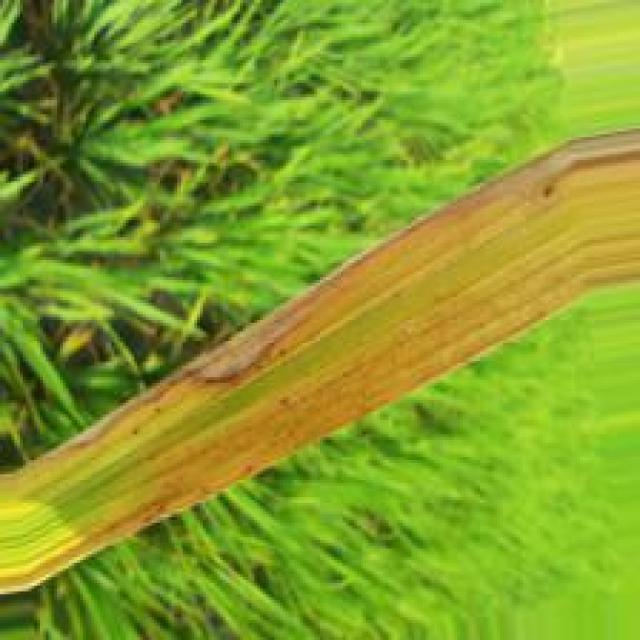Leaf_Blast: (0, 121, 640, 594)
